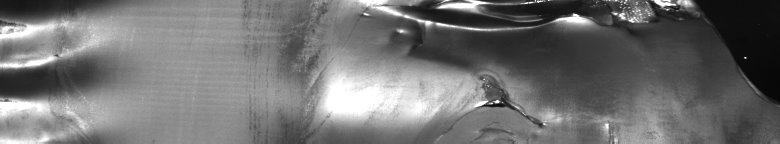ke: (306, 4, 672, 136)
